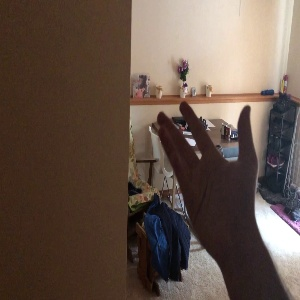hand: (157, 101, 257, 237)
